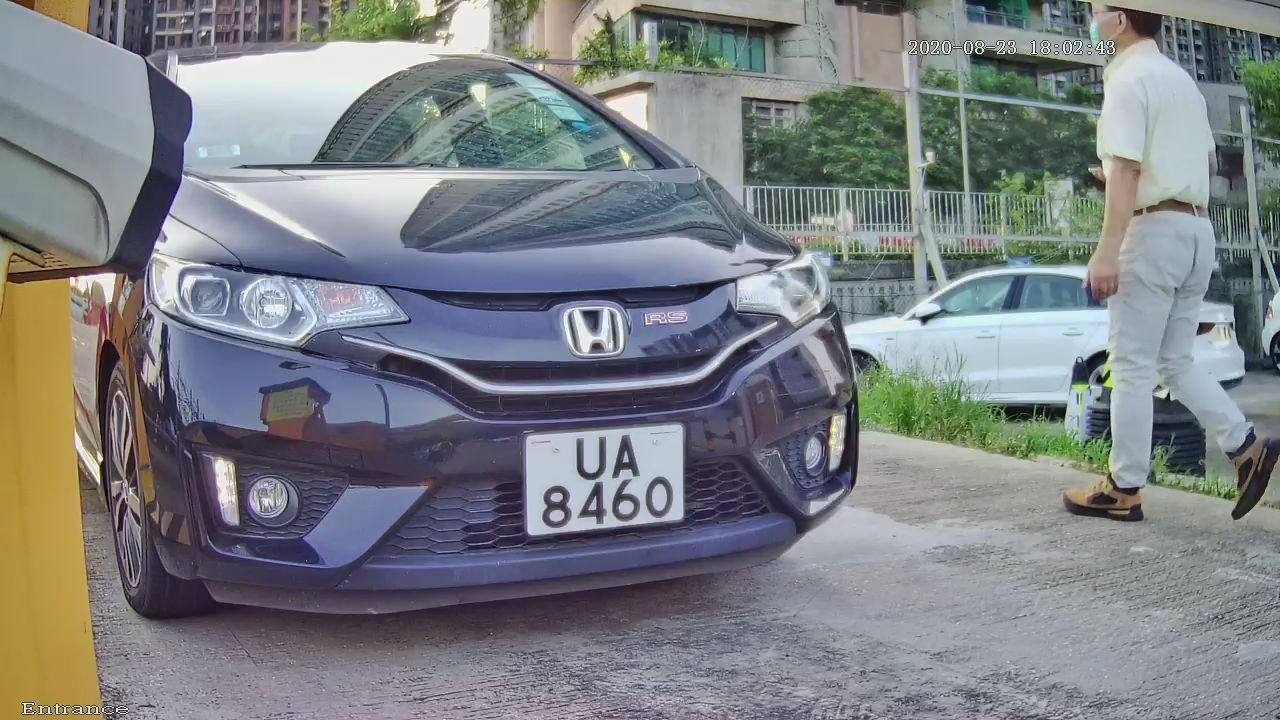Car: (35, 1, 909, 679)
License Plate: (471, 390, 732, 574)
